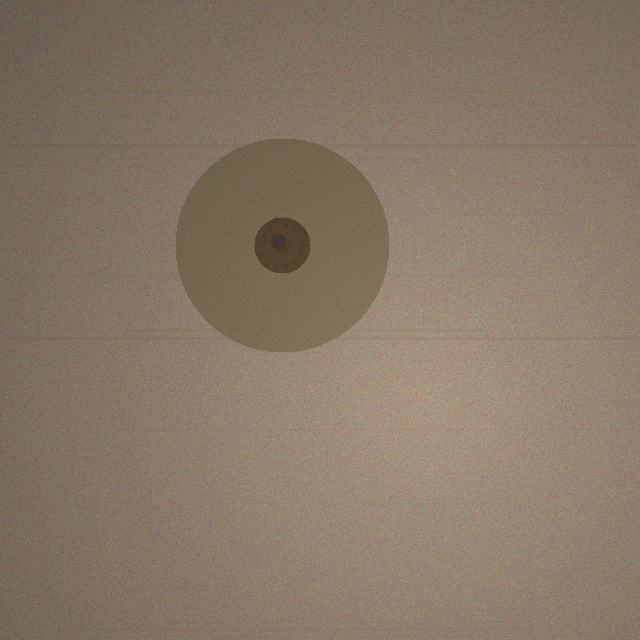cold_weld: (175, 138, 389, 352)
